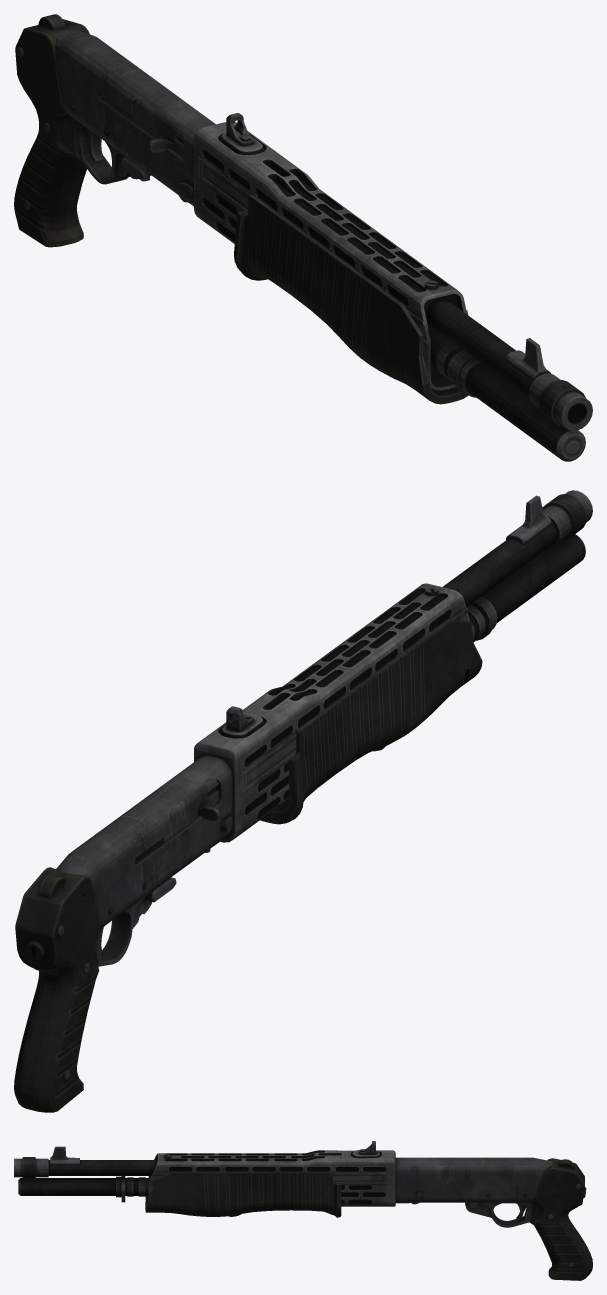
Rendered from benelli_tp.gltf.
The picture shows the model from 3 angles, top to bottom: view 1: azimuth 30°, elevation 25°; view 2: azimuth 150°, elevation 25°; view 3: azimuth 270°, elevation 25°; orthographic projection. The views are drawn at different scales.
Parts seen in each view (by area): view 1: base, pump; view 2: base, pump; view 3: base, pump.
Part boxes in pixels (x1,y1,x2,y2): base: (14,14,592,461); pump: (132,98,468,404); base: (14,490,592,1112); pump: (160,619,482,841); base: (14,1141,592,1280); pump: (145,1171,341,1217).
Size of the model in its own units: 6.32 by 22.62 by 88.51.
Materials: 5 (5 with a texture image).
